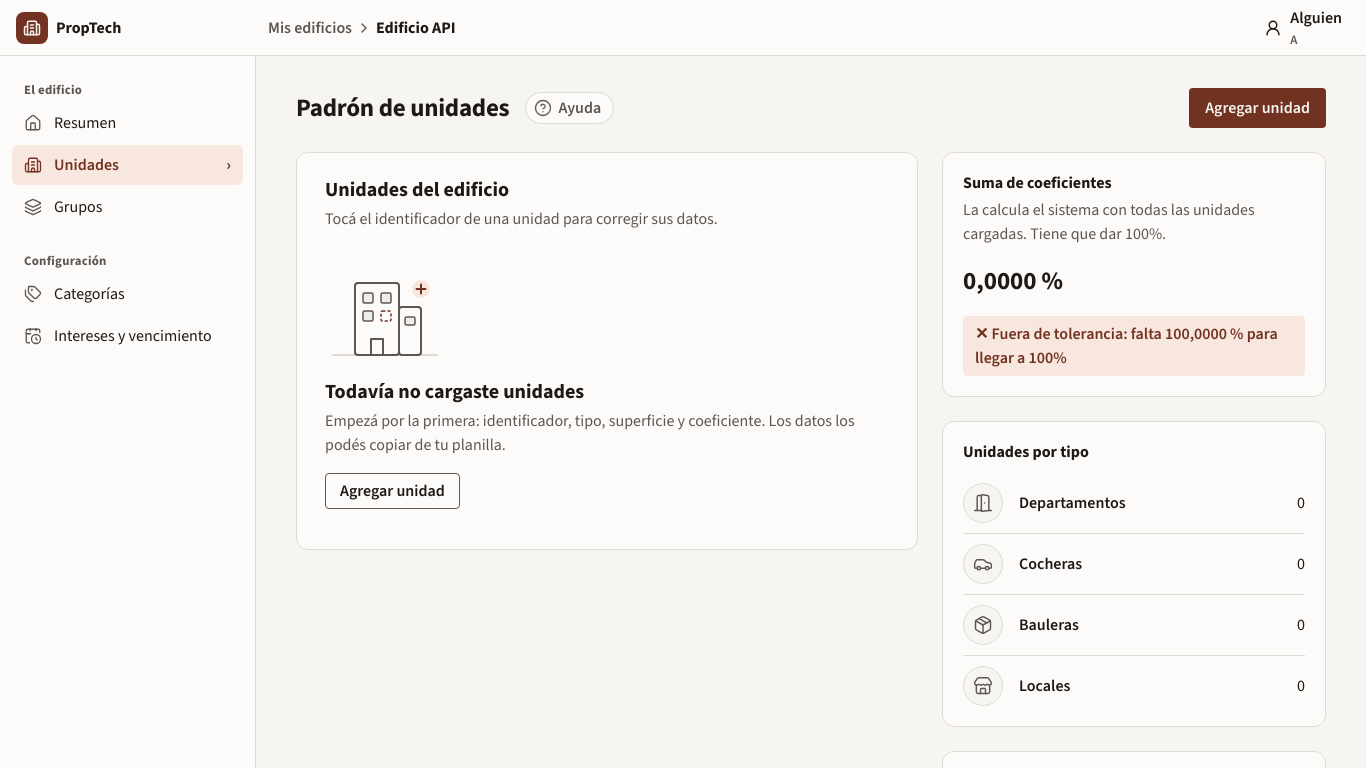
Test: PantallaPadron › "Agregar unidad" abre el panel con el formulario de alta
The width and height of the screenshot is (1366, 768).
Step 1. Click the button "Agregar unidad" in the row of "Padrón de unidades" → (1258, 108), box [1189,88,1326,128]
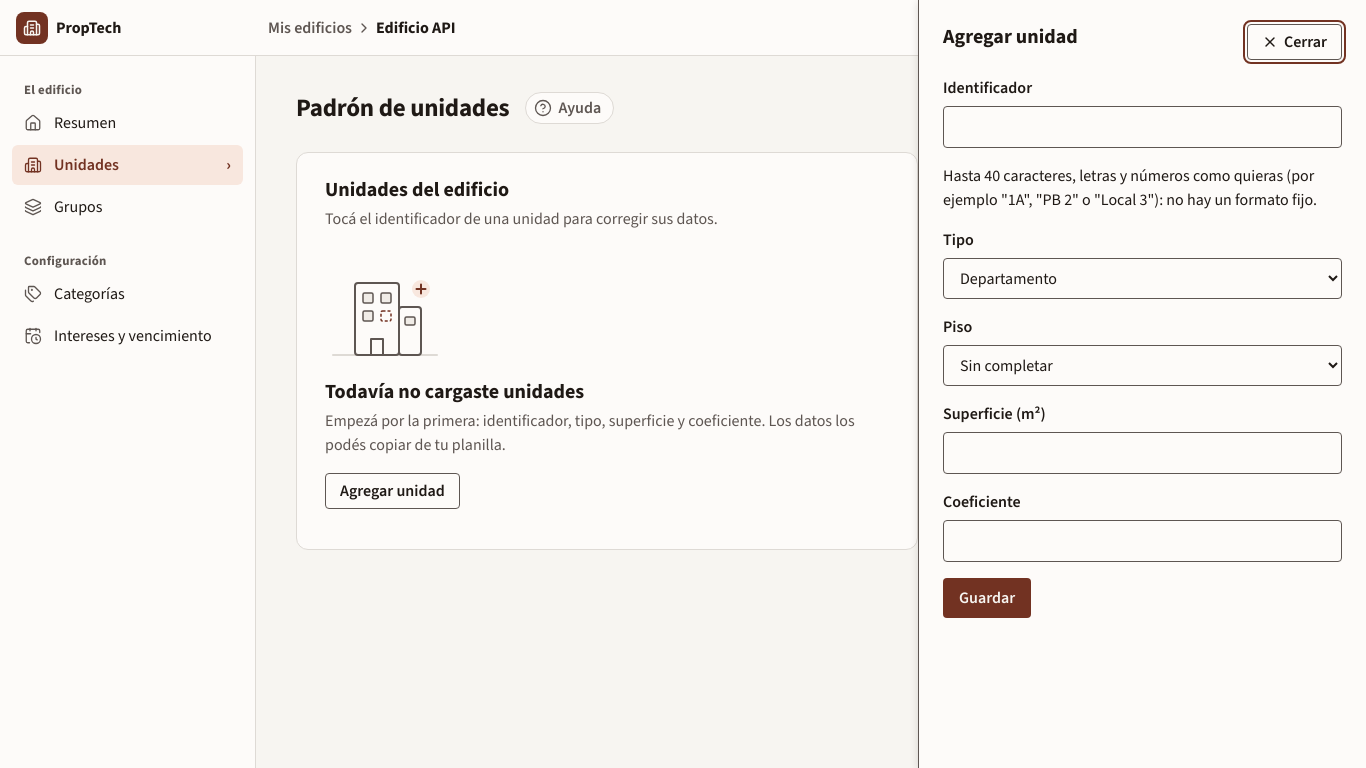
expect the field labelled "Identificador" is shown: met, box [943,106,1342,148]
